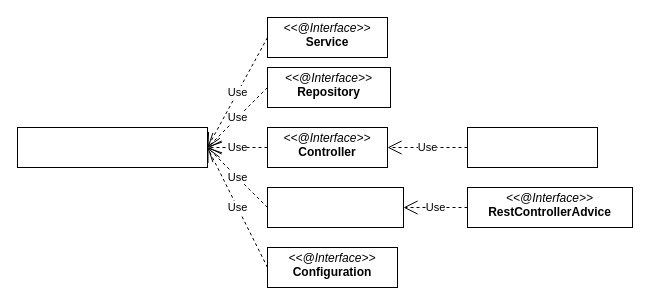
The diagram is 650 pixels wide and 305 high, and some of its shapes have lost their labels. Each missing label, with the box of its shape:
<<@Interface>> Component: (16, 126, 208, 168)
<<@Interface>> ControllerAdvice: (266, 186, 404, 228)
<<@Interface>> RestController: (466, 126, 598, 168)
